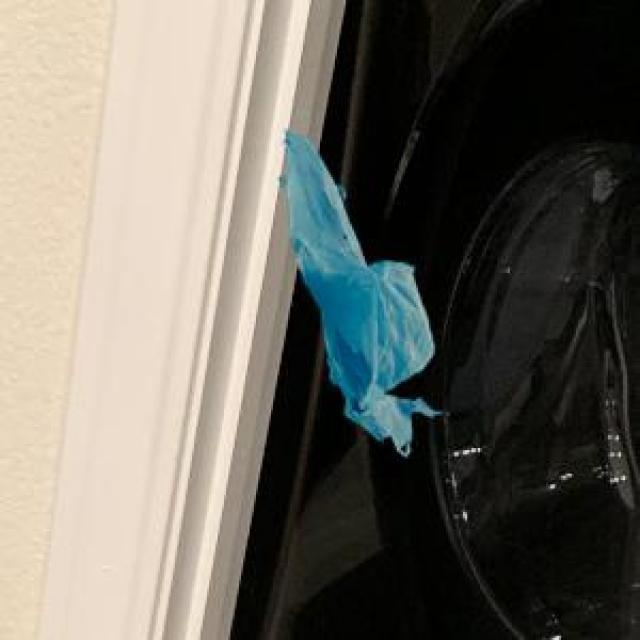waste: (289, 134, 439, 454)
